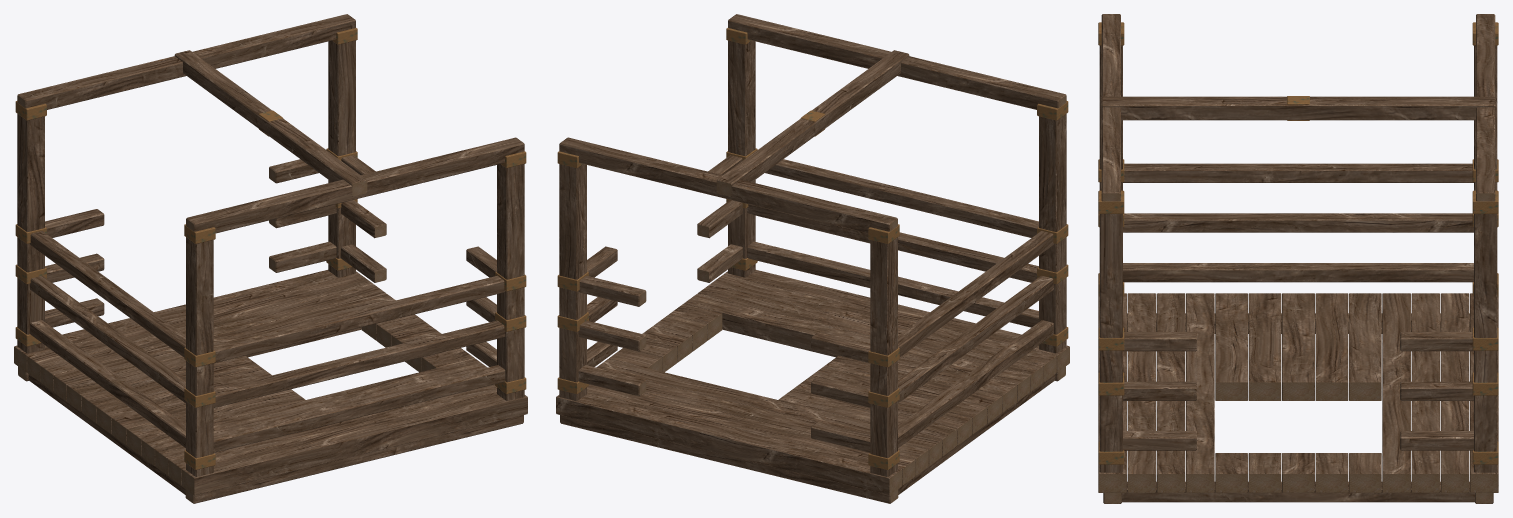
The model's file is CounterweightBasket.fbx.
3 renders of one model, left to right at view 1: azimuth 30°, elevation 25°; view 2: azimuth 150°, elevation 25°; view 3: azimuth 270°, elevation 25°, orthographic. The views are drawn at different scales.
Visible parts, largest first — view 1: CounterweightBasket_LOD0; view 2: CounterweightBasket_LOD0; view 3: CounterweightBasket_LOD0.
Boxes of the visible parts, <box> form: CounterweightBasket_LOD0: <box>14,14,527,503</box>; CounterweightBasket_LOD0: <box>556,14,1069,503</box>; CounterweightBasket_LOD0: <box>1098,14,1498,503</box>.
Size of what is drawn, in the model's own units: 3.2 by 2.6 by 2.99.
Materials: 4 (4 with a texture image).
